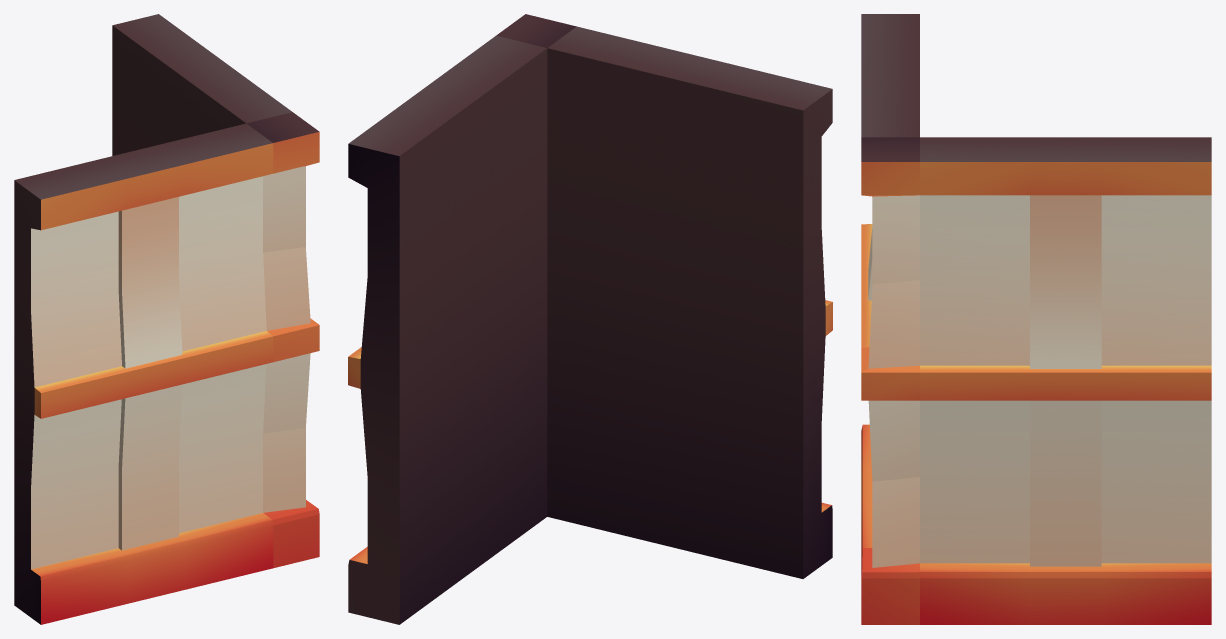
The model's file is muur corner out.fbx.
3 views of the same model, side by side, from view 1: azimuth 30°, elevation 25°; view 2: azimuth 150°, elevation 25°; view 3: azimuth 270°, elevation 25° (orthographic). The views are drawn at different scales.
Parts seen in each view (by area): view 1: Cube.001; view 2: Cube.001; view 3: Cube.001.
Boxes of the visible parts, x1,y1,x2,y2 form: Cube.001: (14,14,319,624); Cube.001: (348,14,832,624); Cube.001: (861,14,1211,624).
Size of the model in its own units: 240 by 350 by 240.
